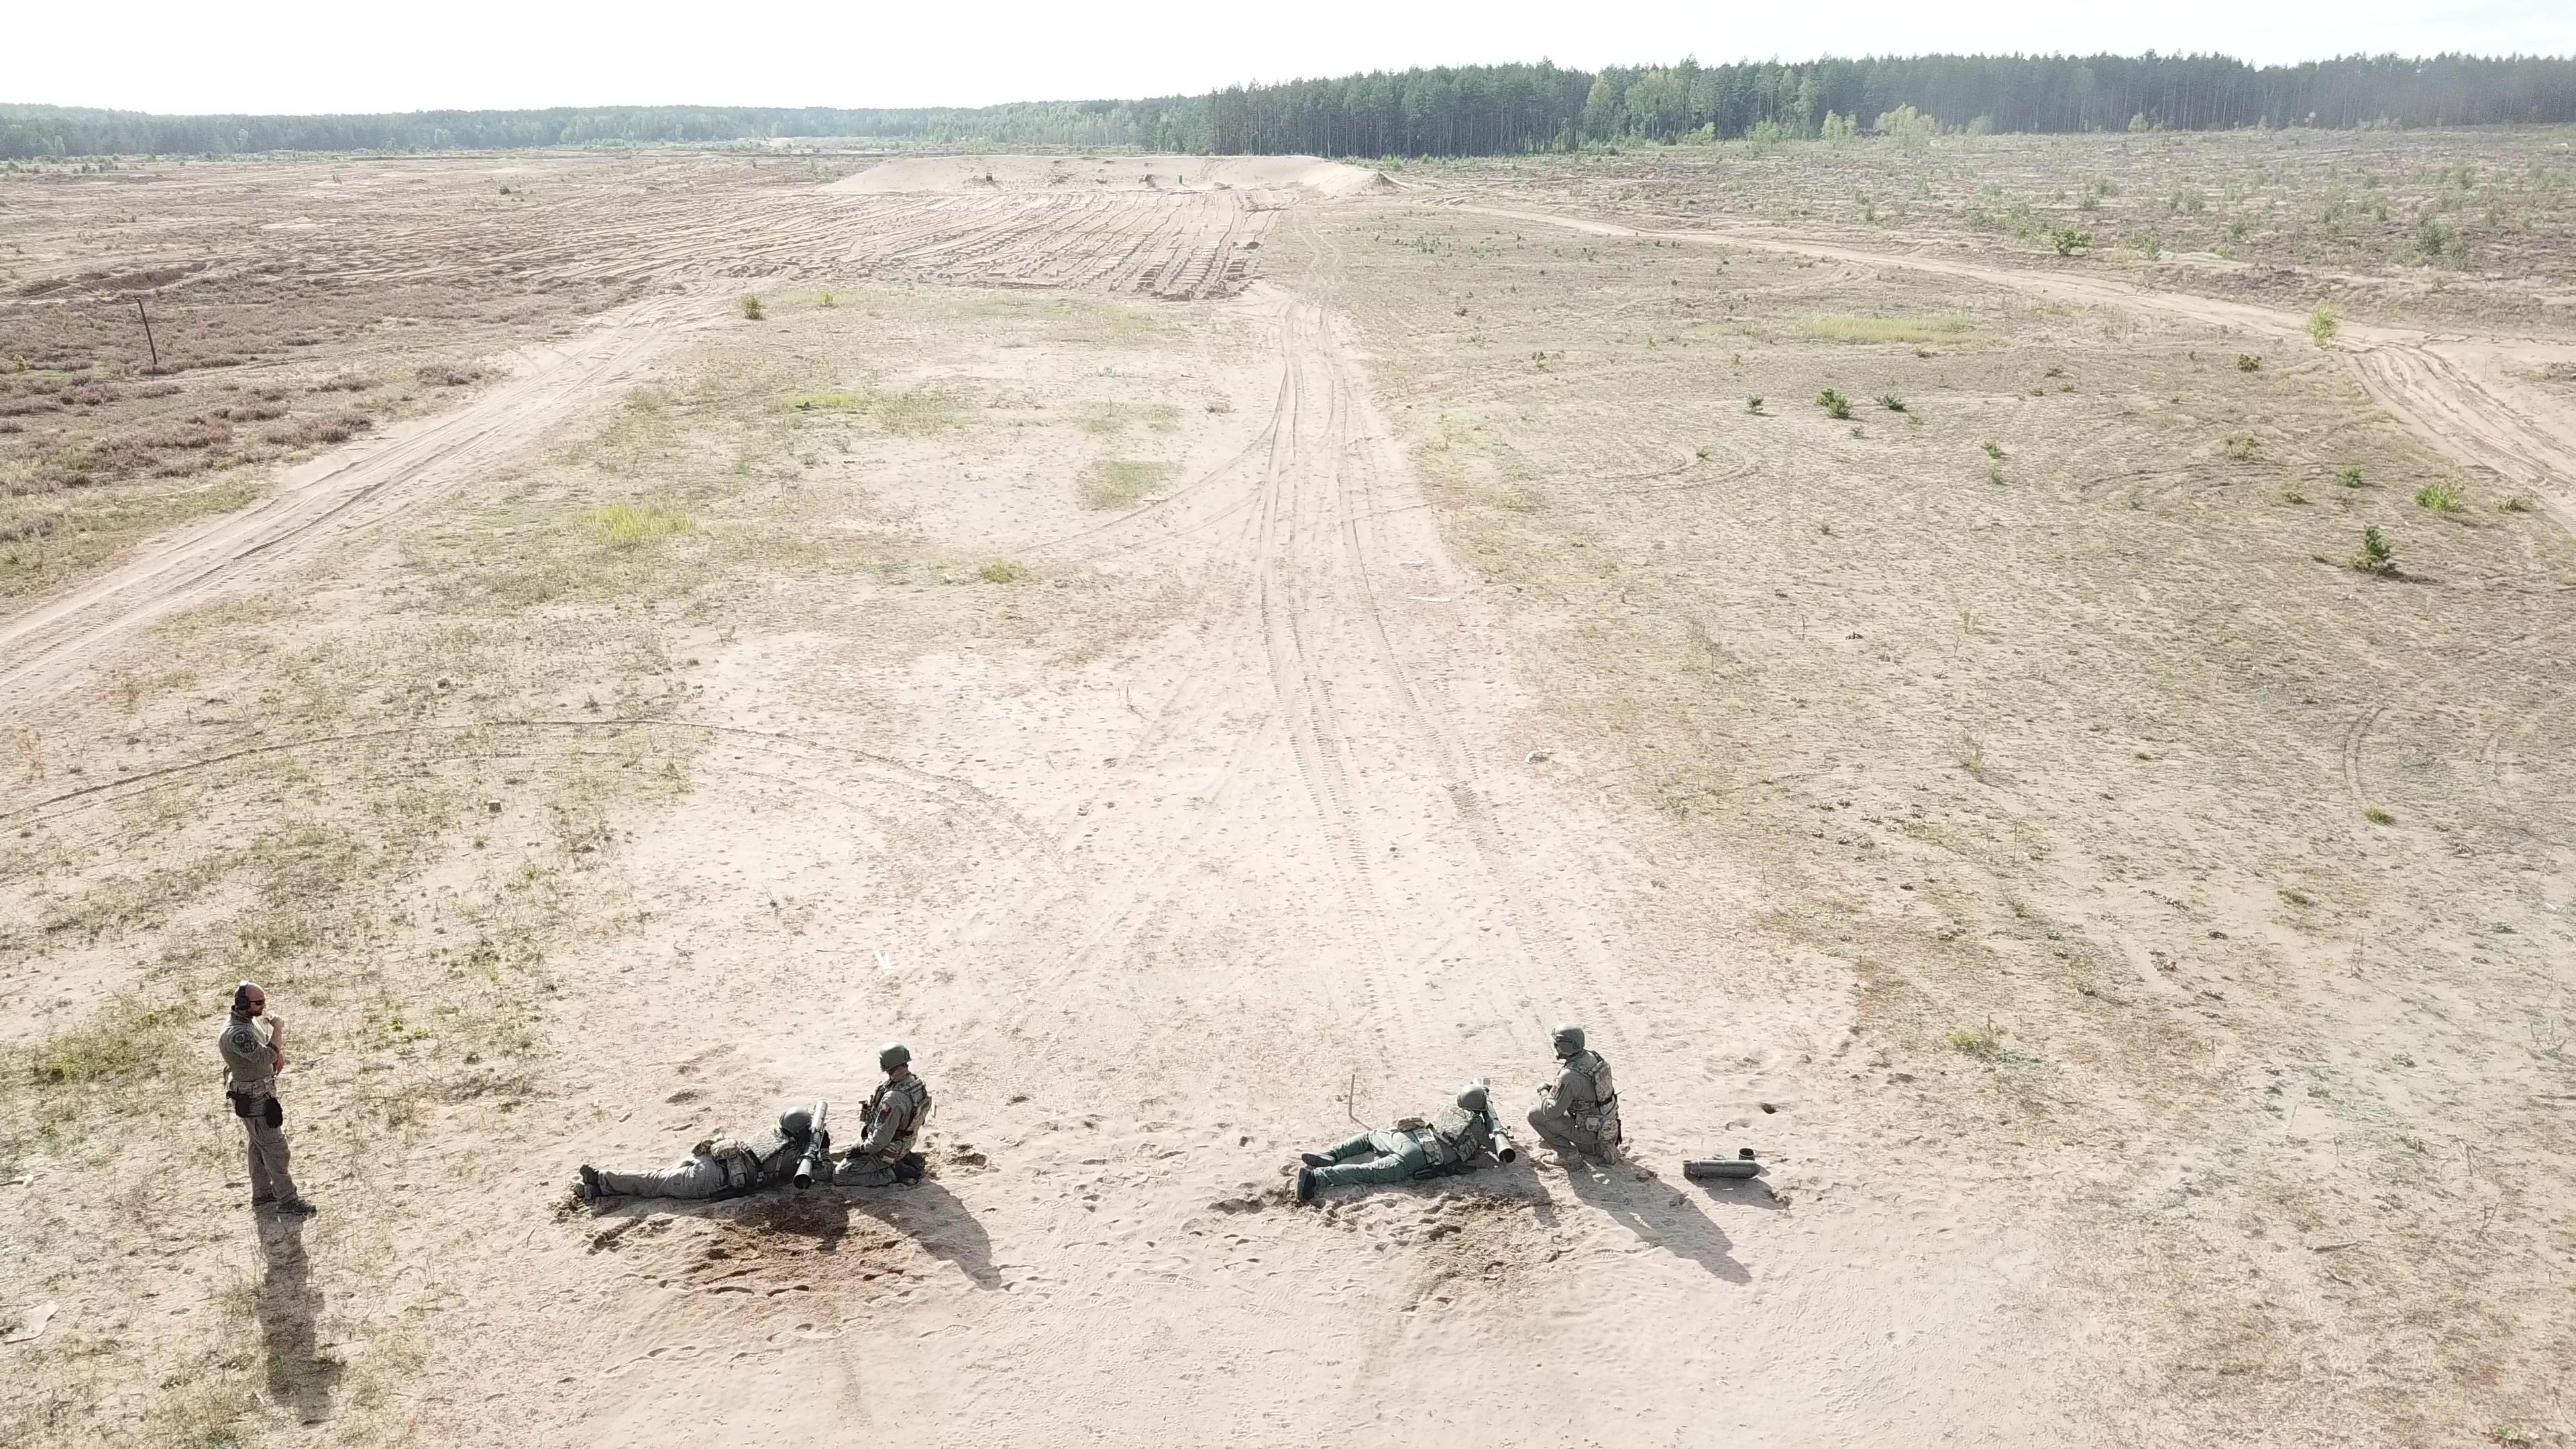Soldier: (570, 1097, 830, 1201), (1288, 1076, 1513, 1194), (209, 980, 311, 1217), (828, 1042, 936, 1191), (1525, 1017, 1624, 1175)
